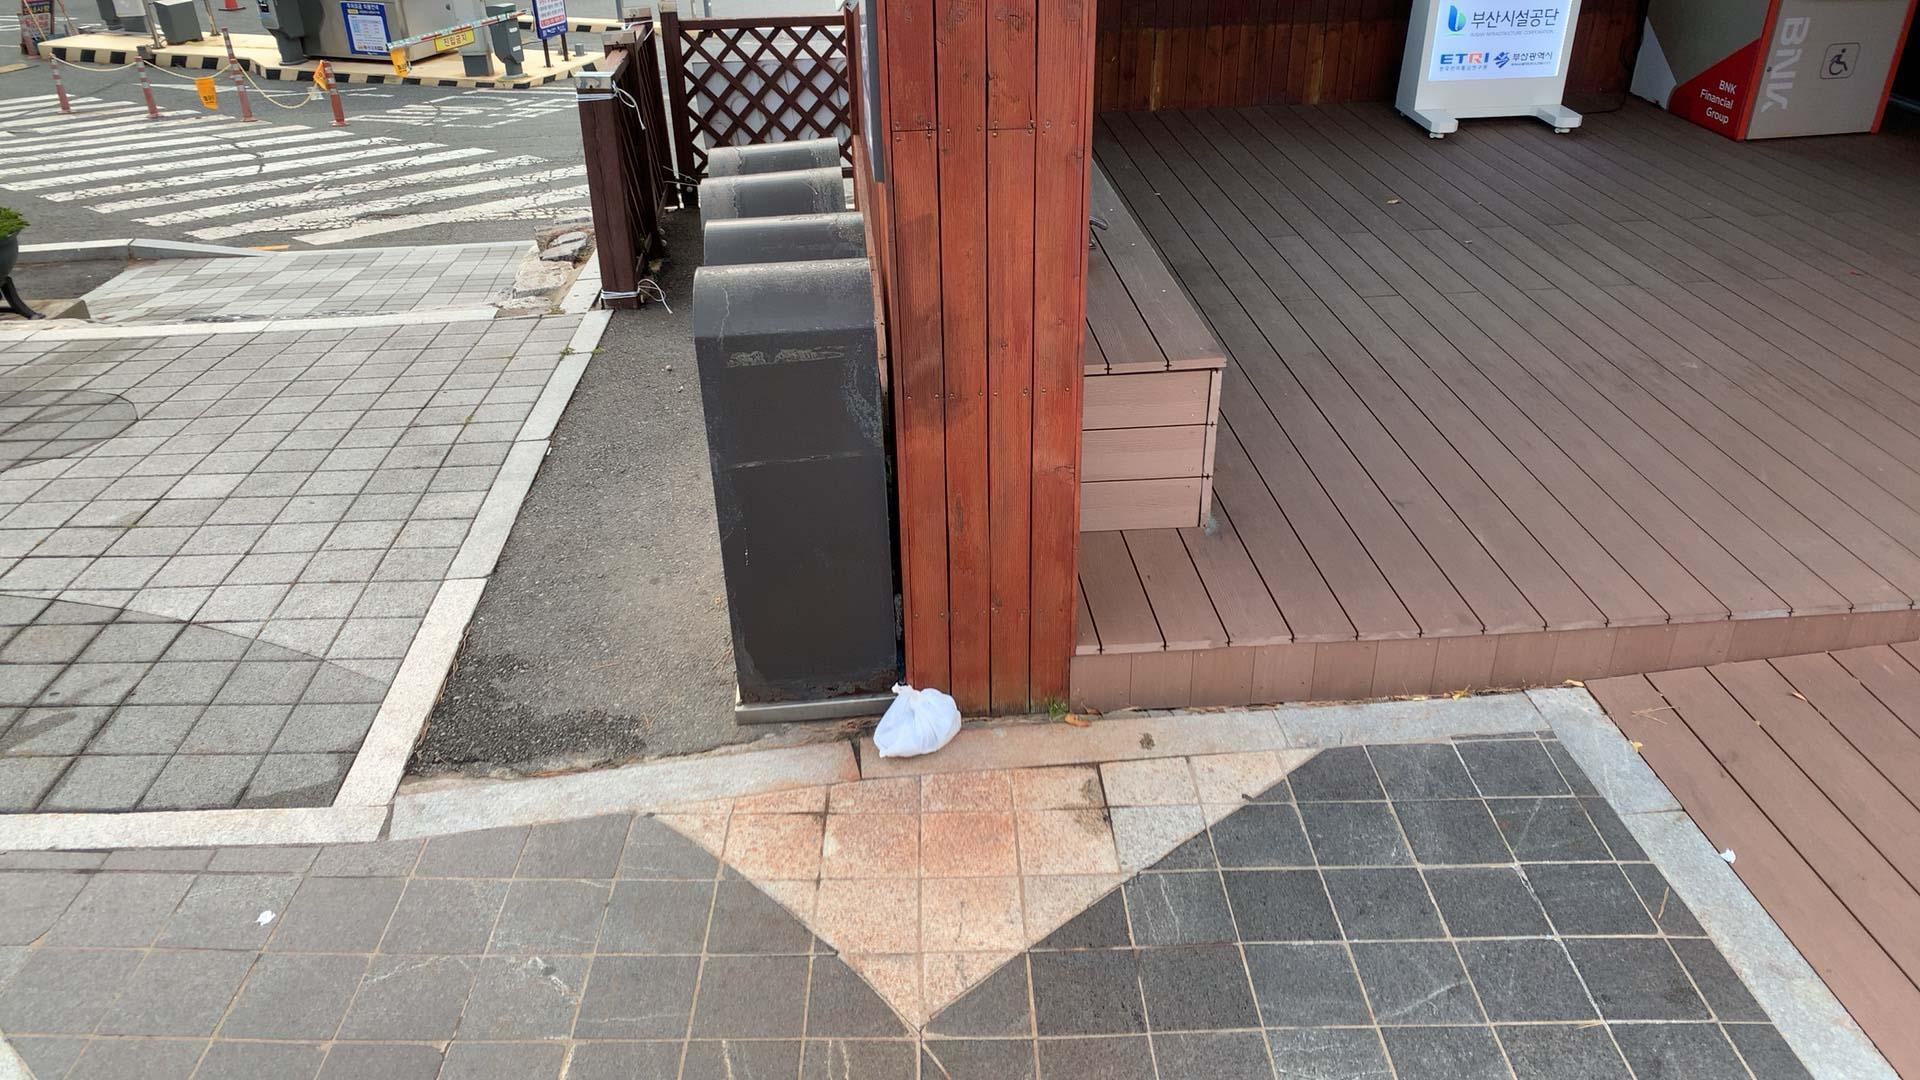white_bag: (865, 676, 967, 764)
